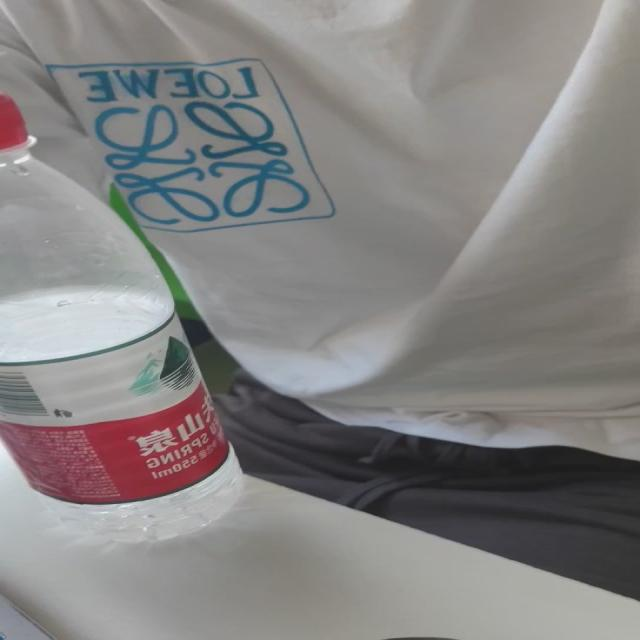plastic: (0, 85, 252, 560)
